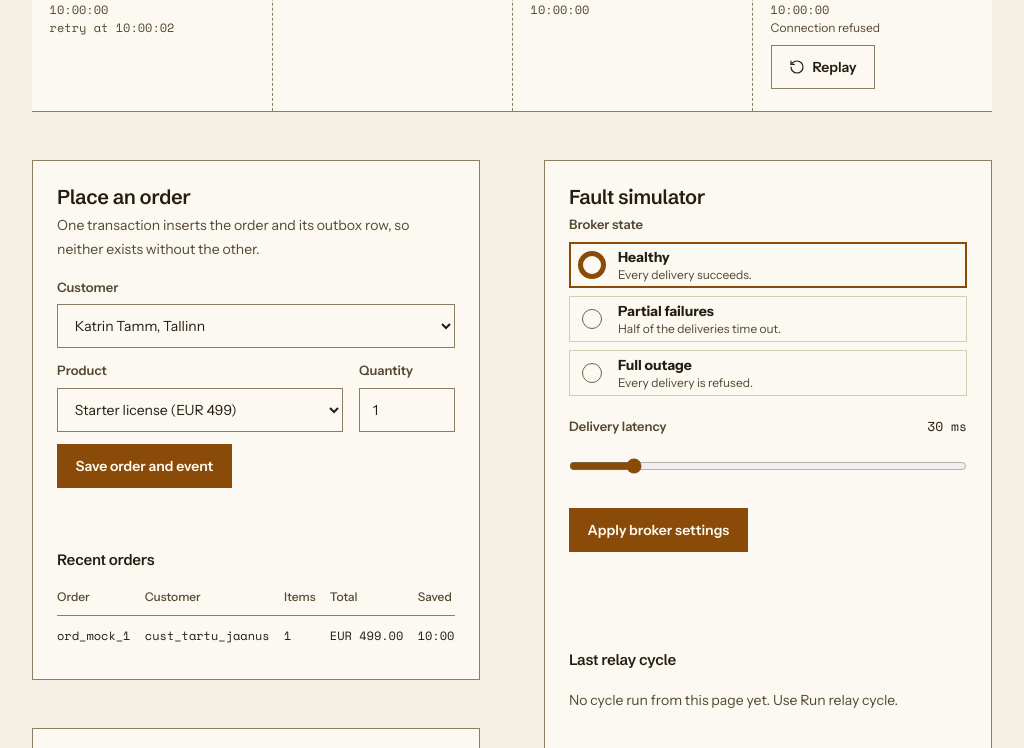
Test: OutboxRelay operations console › applies broker settings
The width and height of the screenshot is (1024, 748).
(page scrolled)
Click the radio button labelled "Full outage Every delivery is refused.".
click(592, 373)  # box [570, 351, 614, 395]
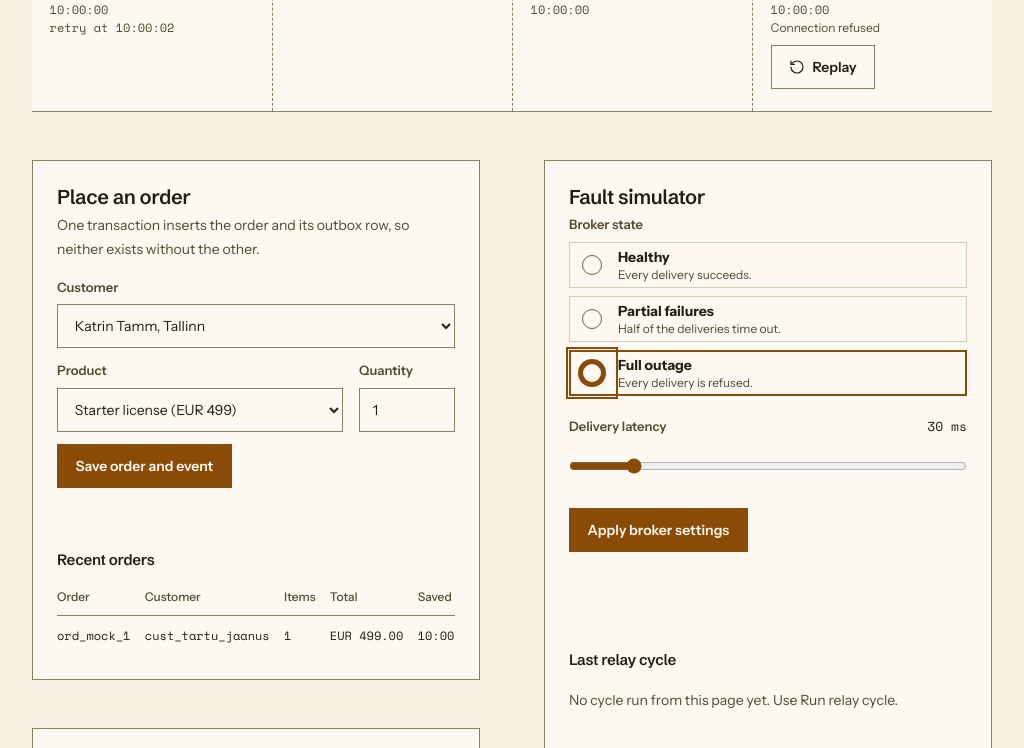
Click the button "Apply broker settings".
click(658, 530)  # box [569, 508, 748, 552]
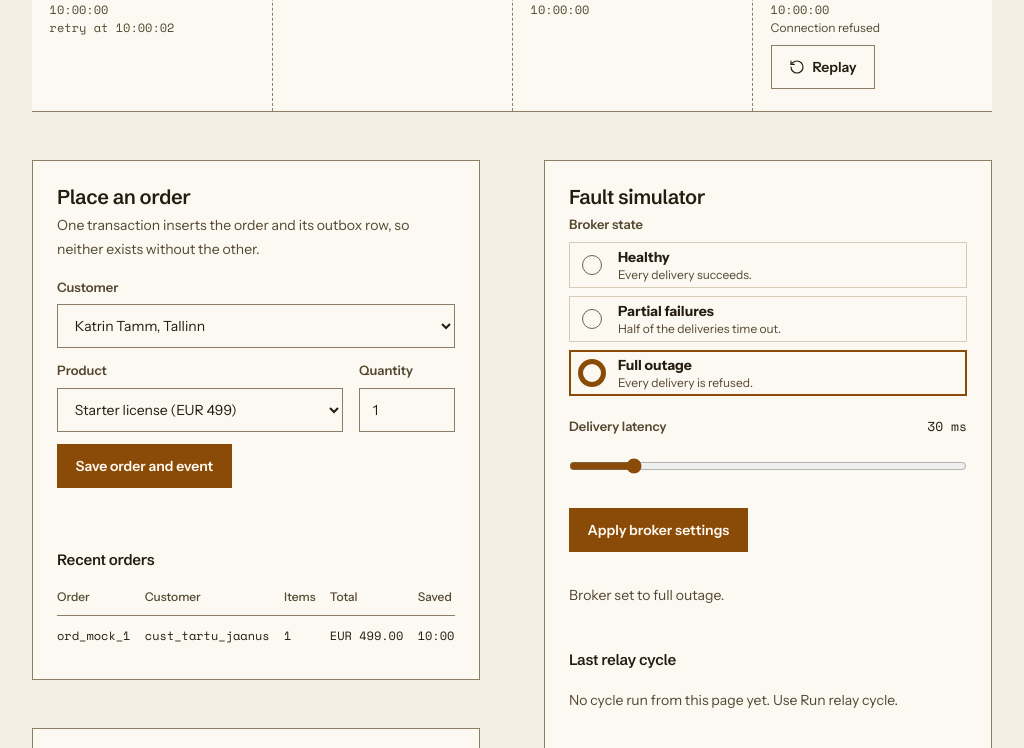
Check: the text "Broker set to full outage." is shown, box [569, 586, 724, 604]
